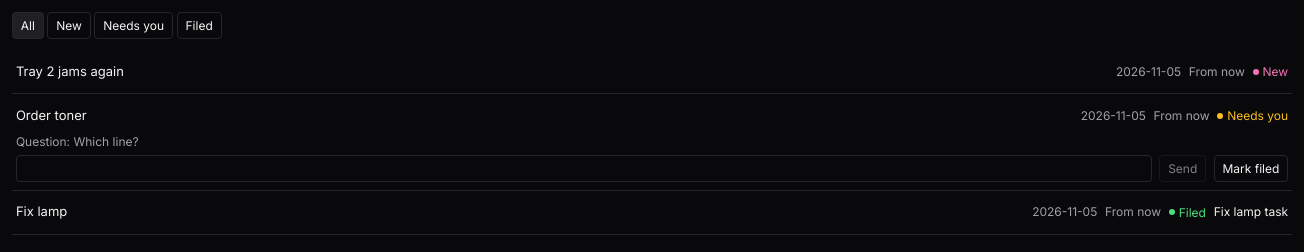
CapturesView › lists captures and filters by status
Expected: the text "Tray 2 jams again" is shown, [16,63,124,79]
Expected: the text "Order toner" is shown, [16,107,87,123]
Step 1. Click the button "Filed" → (199, 26), box [177,12,222,39]
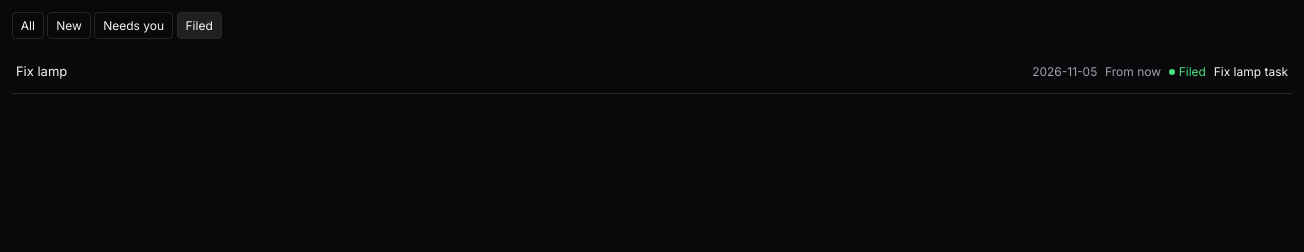
Expected: the text "Fix lamp" is shown, [16,63,67,79]
Result: the text "Tray 2 jams again" is gone
